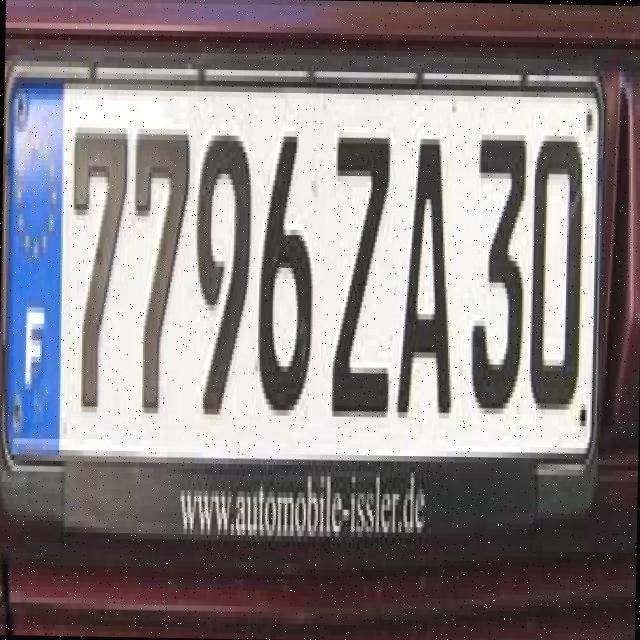EU: (0, 70, 603, 560)
France: (4, 61, 68, 464)
